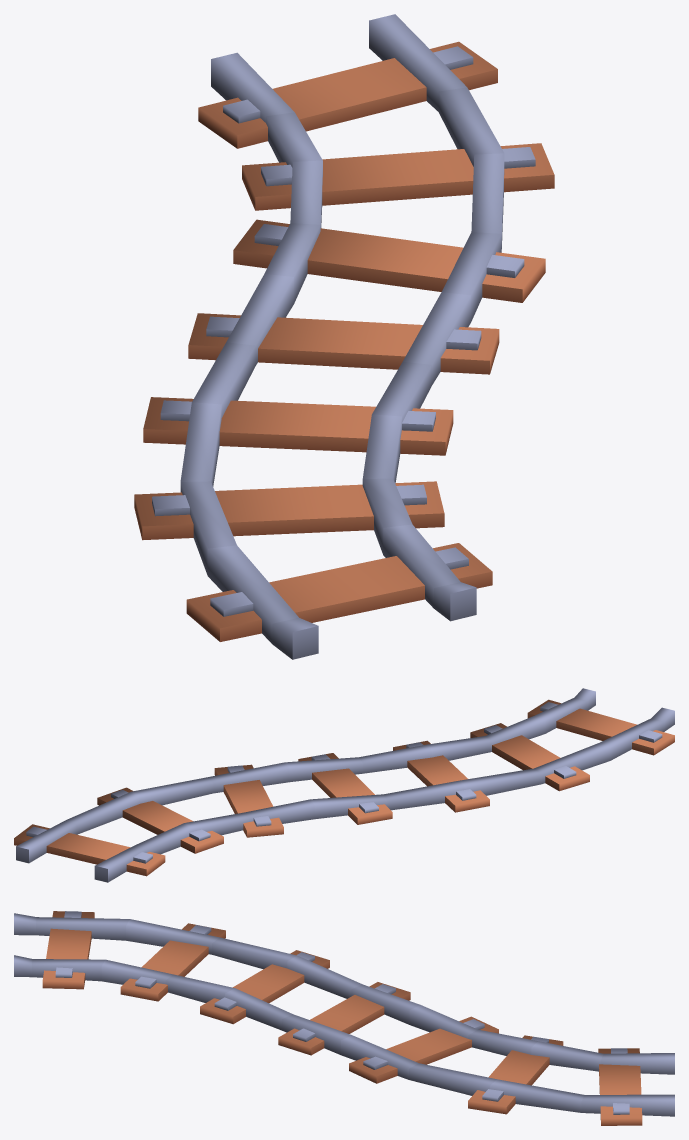
The model's file is railroad-damaged-curve.glb.
3 views of the same model, one above another, from view 1: azimuth 30°, elevation 25°; view 2: azimuth 150°, elevation 25°; view 3: azimuth 270°, elevation 25° (orthographic). The views are drawn at different scales.
Parts seen in each view (by area): view 1: railroad-damaged-curve; view 2: railroad-damaged-curve; view 3: railroad-damaged-curve.
Part boxes in pixels (<box>): railroad-damaged-curve: <box>134,14,554,659</box>; railroad-damaged-curve: <box>14,688,674,882</box>; railroad-damaged-curve: <box>14,911,674,1125</box>.
Bounding box in the file's own units: 2.97 × 0.1 × 4.
